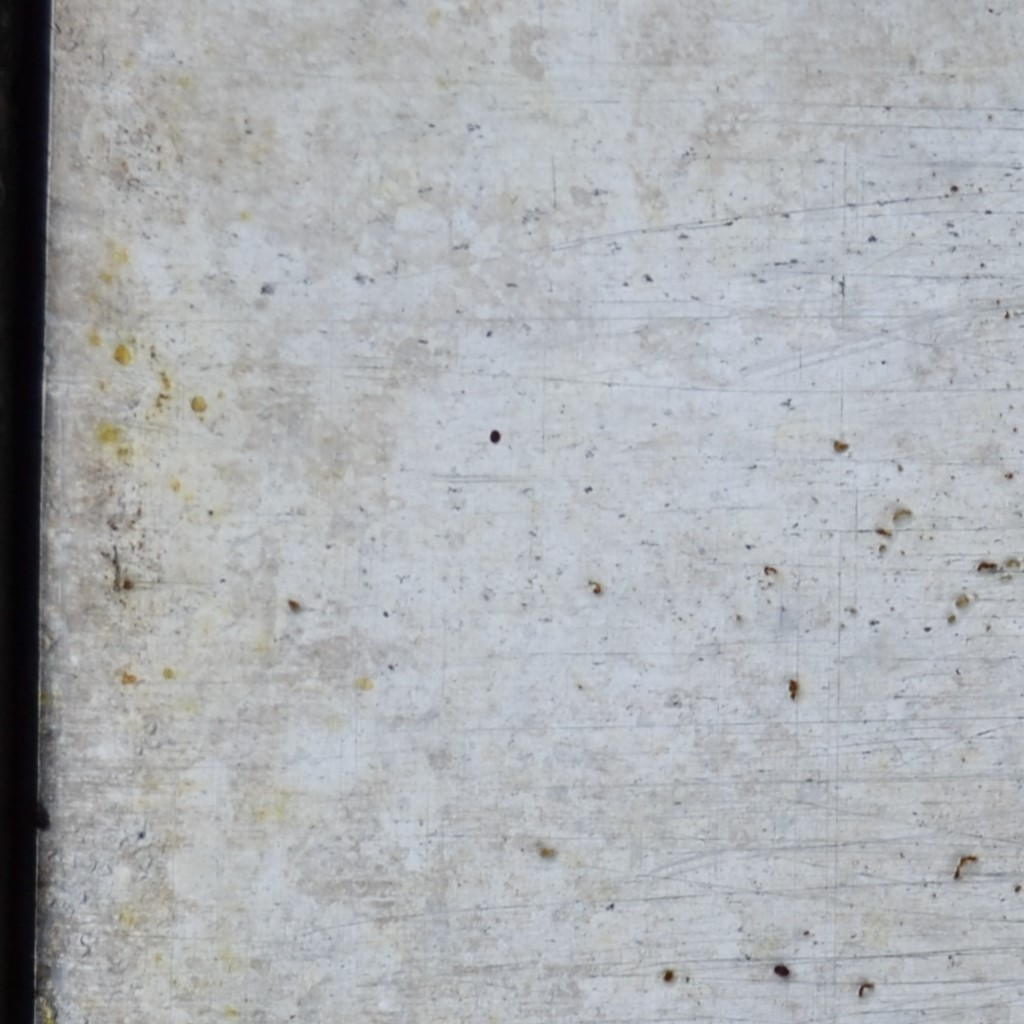varroa: (769, 960, 794, 977), (487, 428, 503, 447)
